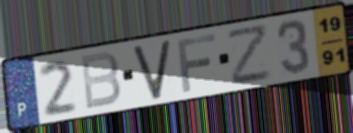2: (36, 59, 80, 119)
3: (276, 17, 313, 77)
B: (78, 50, 123, 112)
F: (175, 31, 219, 94)
V: (132, 37, 173, 102)
Z: (225, 21, 273, 88)
